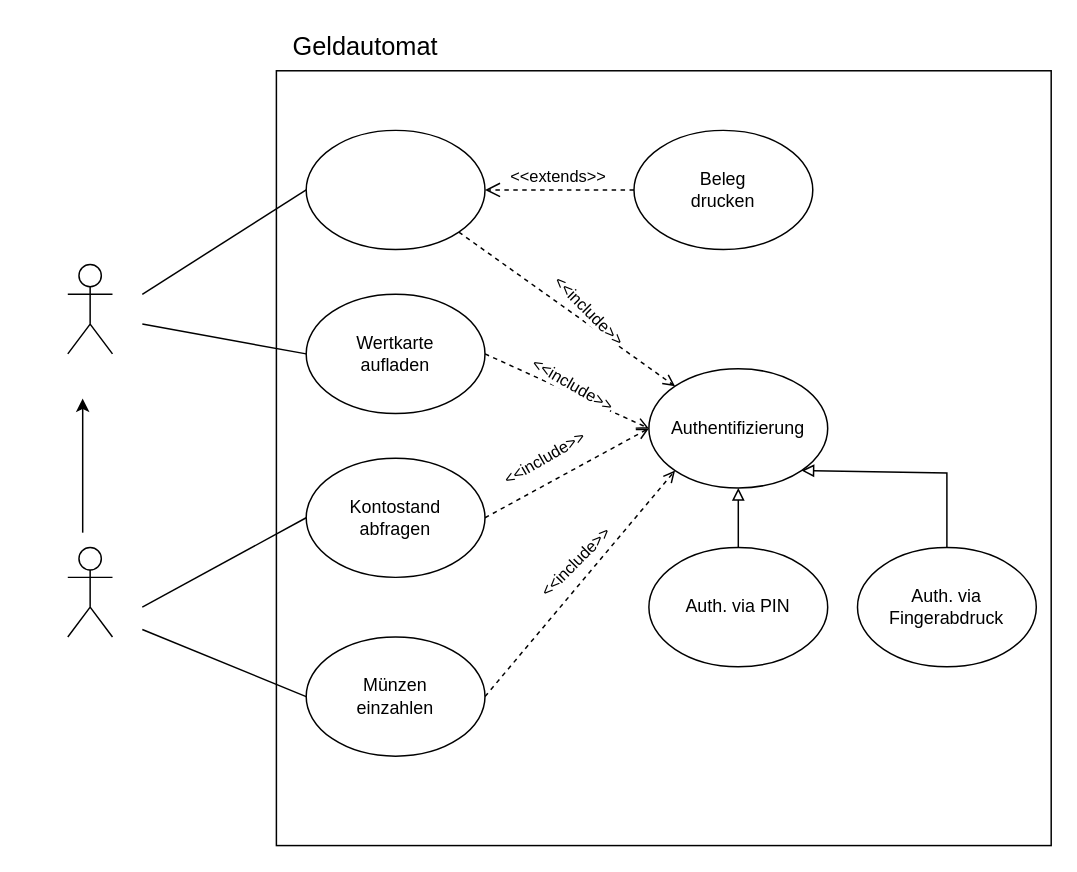
Image size: 1077x872. Some labels were removed from this diagram. Here are the shapes that lost their labels. From the top down, the box of each, then its label:
(305, 129, 485, 250): Geld abheben
(66, 263, 112, 354): Fremdkunde
(66, 546, 112, 637): Kunde der Bank
